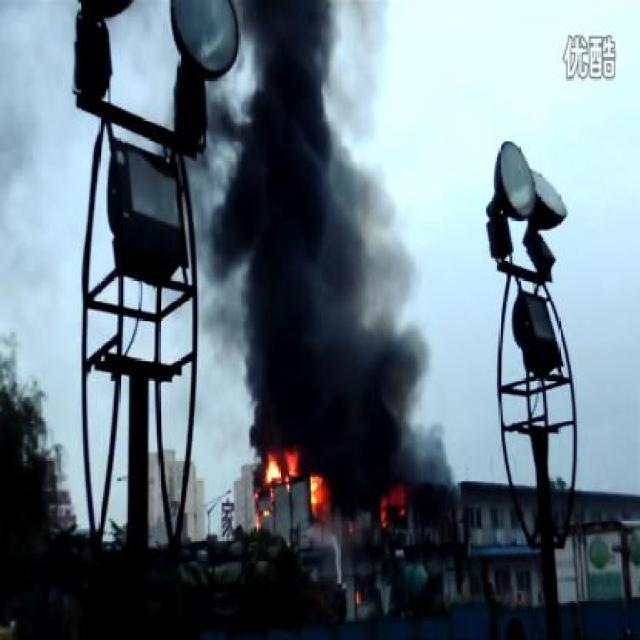Fire: (248, 445, 326, 533), (374, 484, 401, 540), (352, 580, 368, 608)
Smoke: (234, 1, 426, 440), (326, 441, 454, 487)
